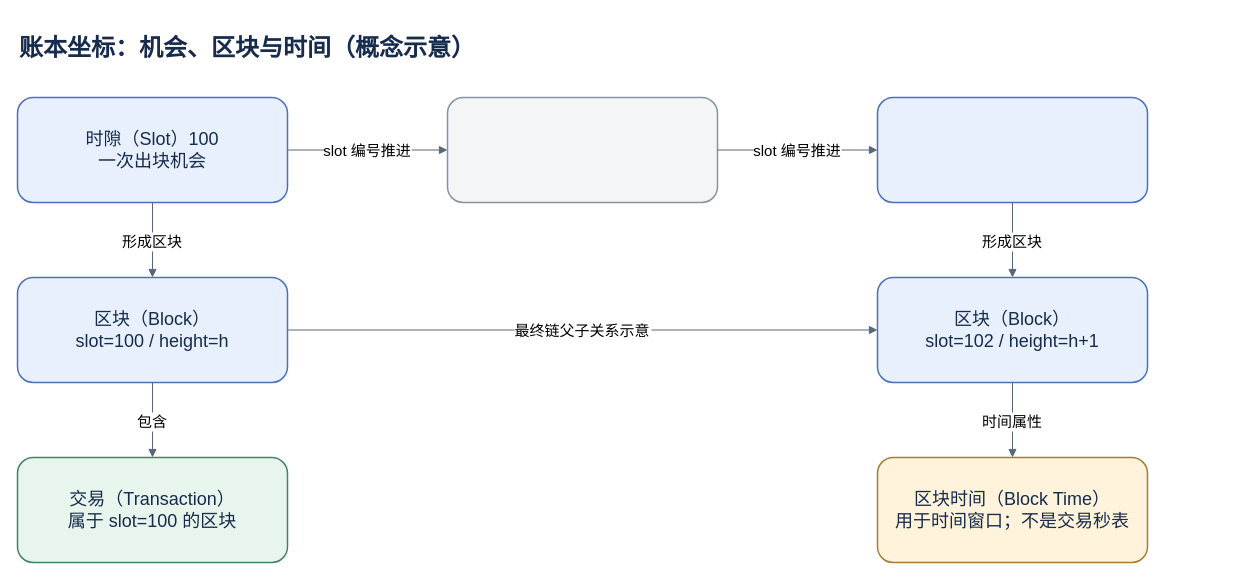
Image size: 1235x580. Some labels were removed from this diagram. Here are the shapes that lost their labels. From the top down, the box of each, then its label:
(446, 96, 718, 203): 时隙（Slot）101 示意：未形成最终链区块
(876, 96, 1148, 203): 时隙（Slot）102 一次出块机会
